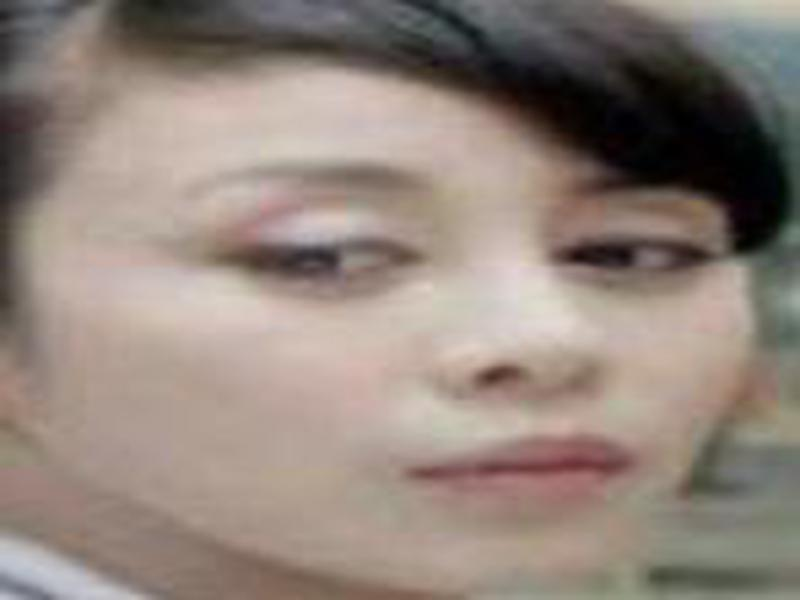without_mask: (13, 73, 754, 600)
